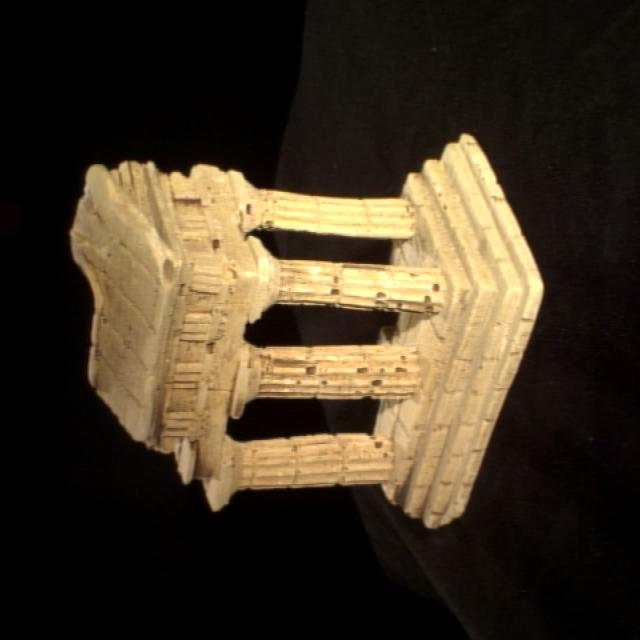Instance-Segmentation: (71, 135, 542, 525)
